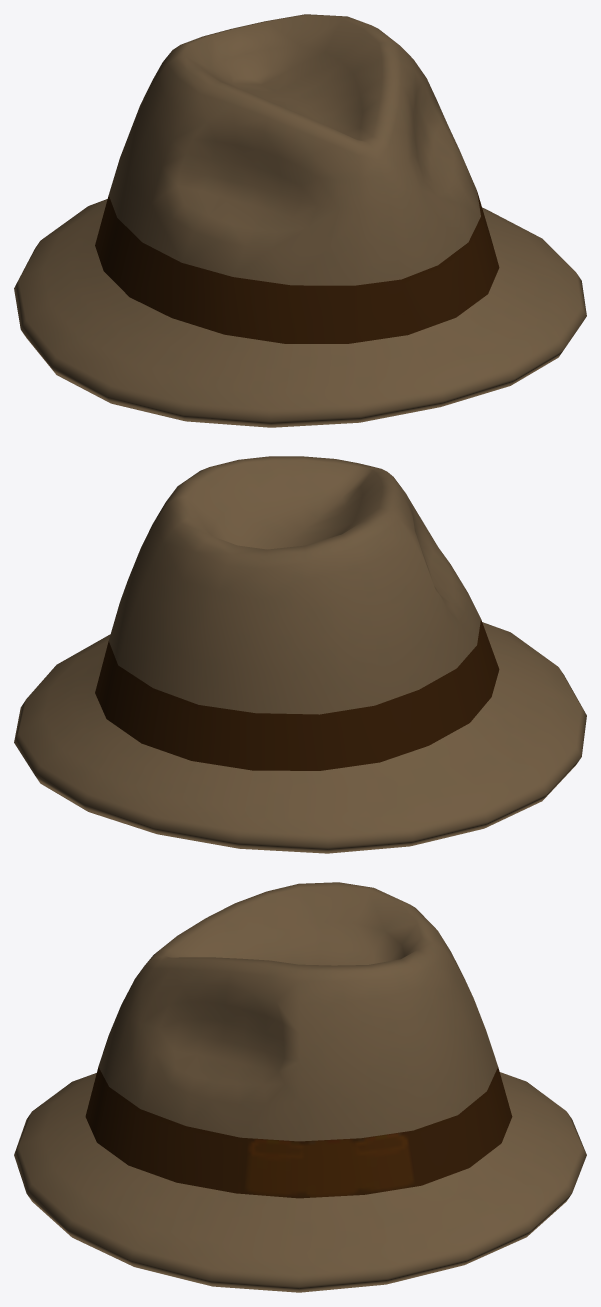
Rendered from CapHatFelt0.glb.
3 views of the same model, one above another, from view 1: azimuth 30°, elevation 25°; view 2: azimuth 150°, elevation 25°; view 3: azimuth 270°, elevation 25° (orthographic).
Parts seen in each view (by area): view 1: Body__mCap; view 2: Body__mCap; view 3: Body__mCap.
Boxes of the visible parts, <box> form: Body__mCap: <box>14,14,586,427</box>; Body__mCap: <box>14,456,586,853</box>; Body__mCap: <box>14,882,586,1292</box>.
Size of the model in its own units: 10.47 by 5.11 by 10.63.
1 material, 1 textured.
